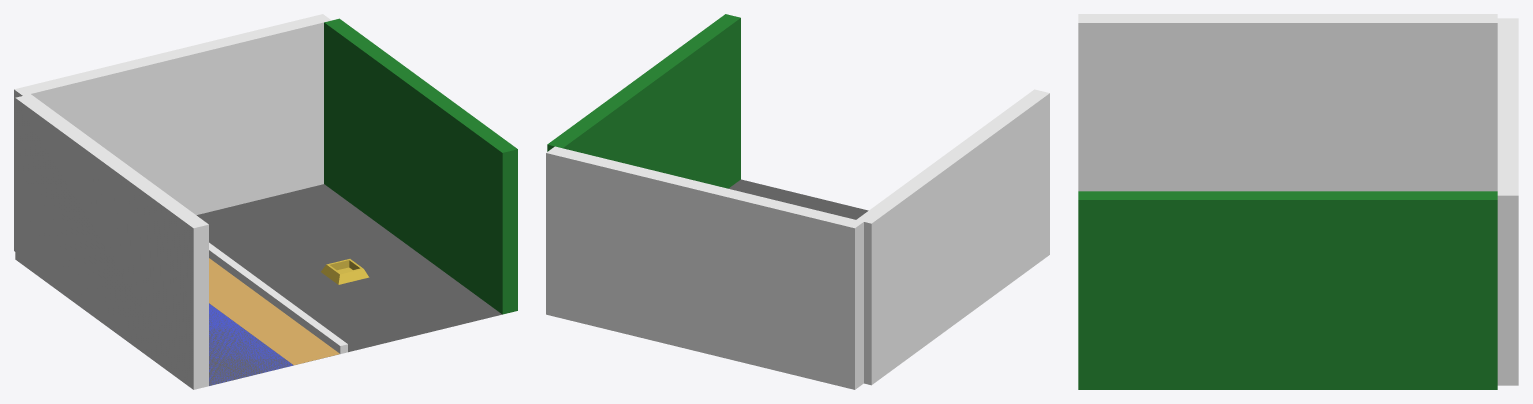
Rendered from scenery.fbx.
3 views of the same model, side by side, from view 1: azimuth 30°, elevation 25°; view 2: azimuth 150°, elevation 25°; view 3: azimuth 270°, elevation 25° (orthographic). The views are drawn at different scales.
Parts seen in each view (by area): view 1: Cube.003, Cube.002, Cube.001, Base, Sand, Sea, Cube, Cube.004; view 2: Cube.003, Cube.002, Cube.001, Base; view 3: Cube.001, Cube.002, Cube.003.
Boxes of the visible parts, x1=… form: Cube.003: x1=14, y1=14, x2=331, y2=251; Cube.002: x1=15, y1=94, x2=208, y2=389; Cube.001: x1=324, y1=18, x2=517, y2=314; Base: x1=196, y1=184, x2=501, y2=385; Sand: x1=209, y1=258, x2=339, y2=365; Sea: x1=209, y1=303, x2=293, y2=385; Cube: x1=209, y1=242, x2=347, y2=353; Cube.004: x1=321, y1=259, x2=369, y2=284; Cube.003: x1=546, y1=146, x2=863, y2=389; Cube.002: x1=856, y1=89, x2=1049, y2=385; Cube.001: x1=547, y1=14, x2=740, y2=188; Base: x1=728, y1=179, x2=868, y2=219; Cube.001: x1=1078, y1=191, x2=1497, y2=389; Cube.002: x1=1078, y1=14, x2=1497, y2=191; Cube.003: x1=1497, y1=18, x2=1518, y2=385.
Bounding box in the file's own units: 2100 × 1000 × 2100.
